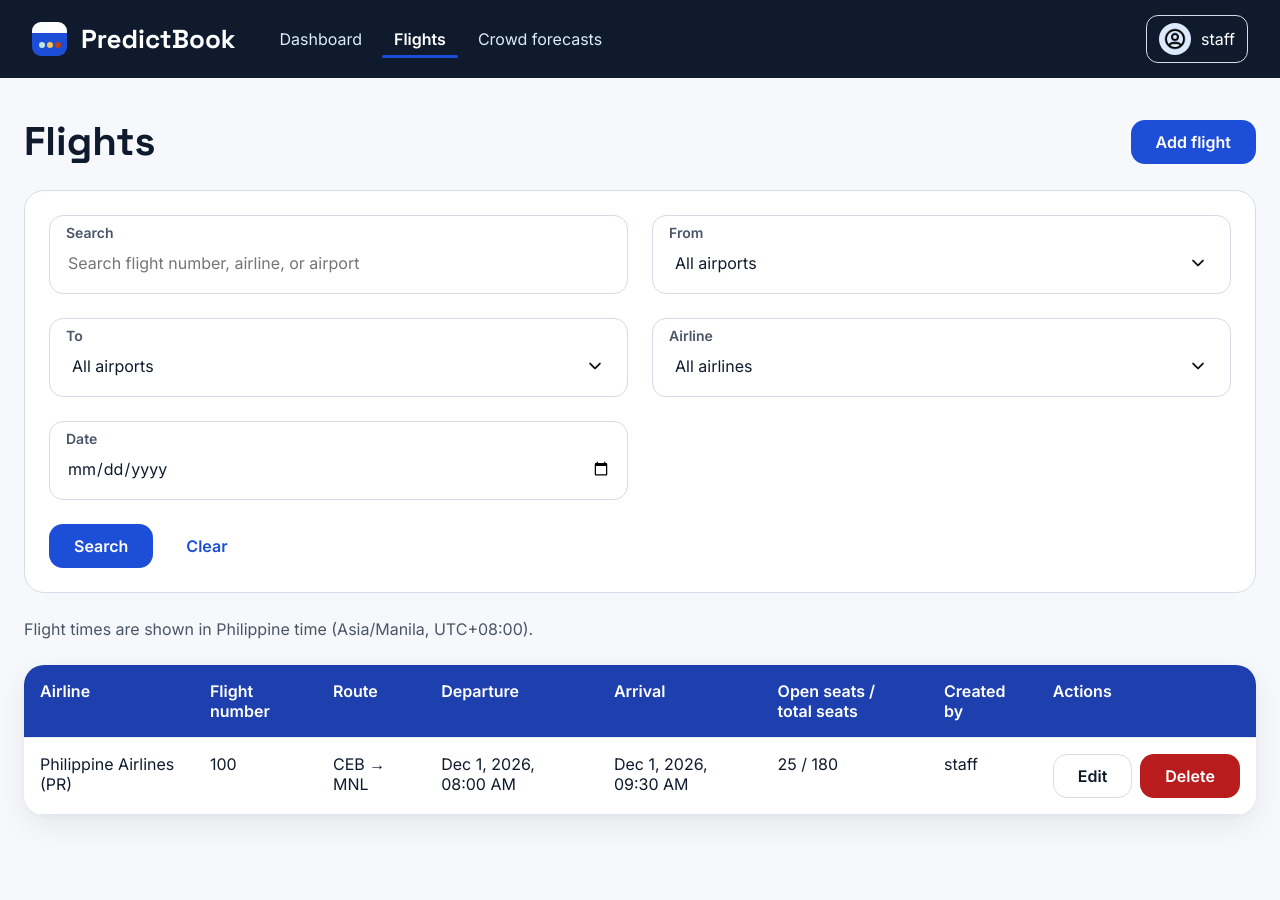
Test: deletes the confirmed flight, updates the table and announces success
The width and height of the screenshot is (1280, 900).
What coordinates should you click on to do the following:
click the button "Delete"
I would click on:
 (1190, 776)
Its box is [1140,754,1240,798].
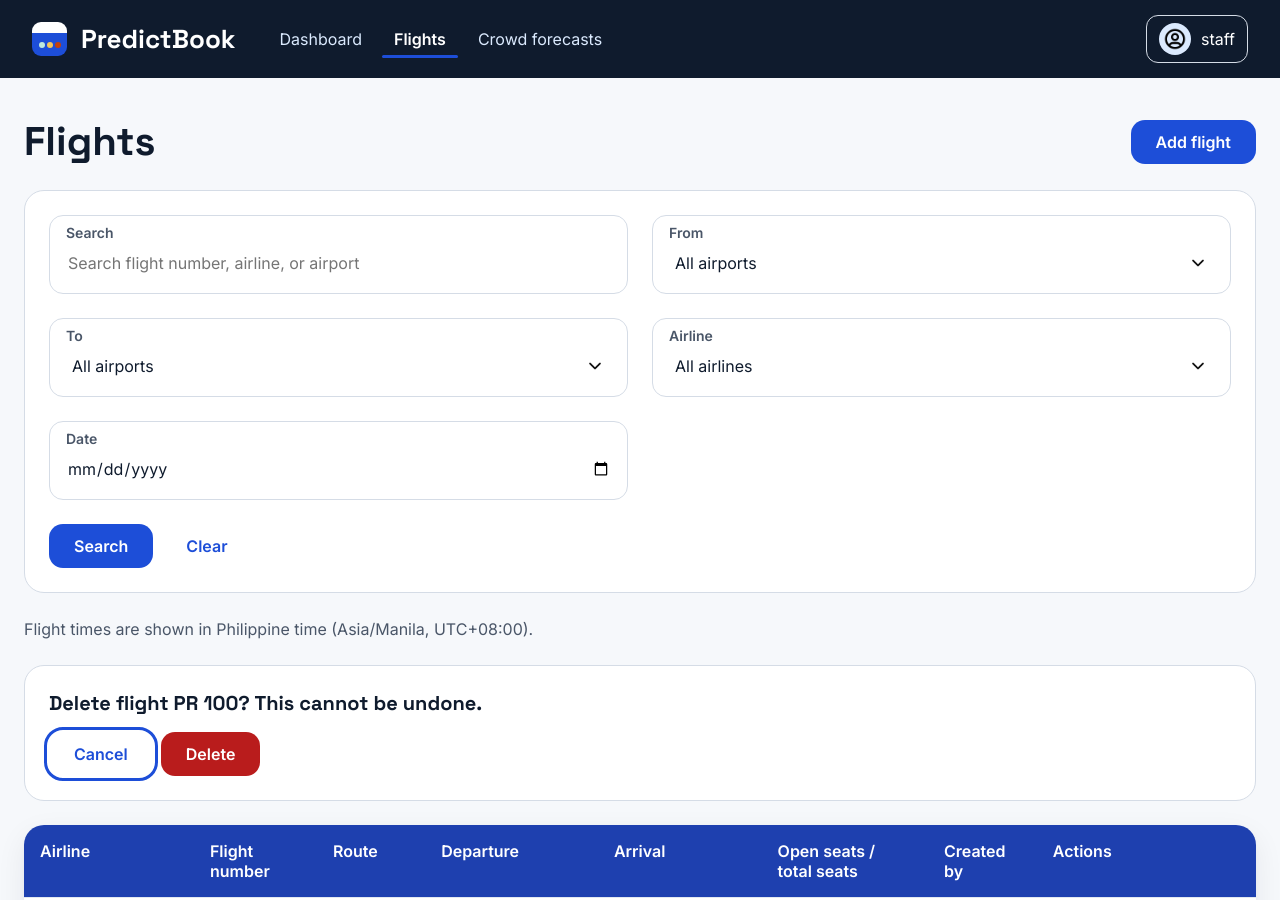
What coordinates should you click on to do the following:
click the button with class "record-danger"
I would click on:
 (210, 754)
Its box is [161,732,260,776].
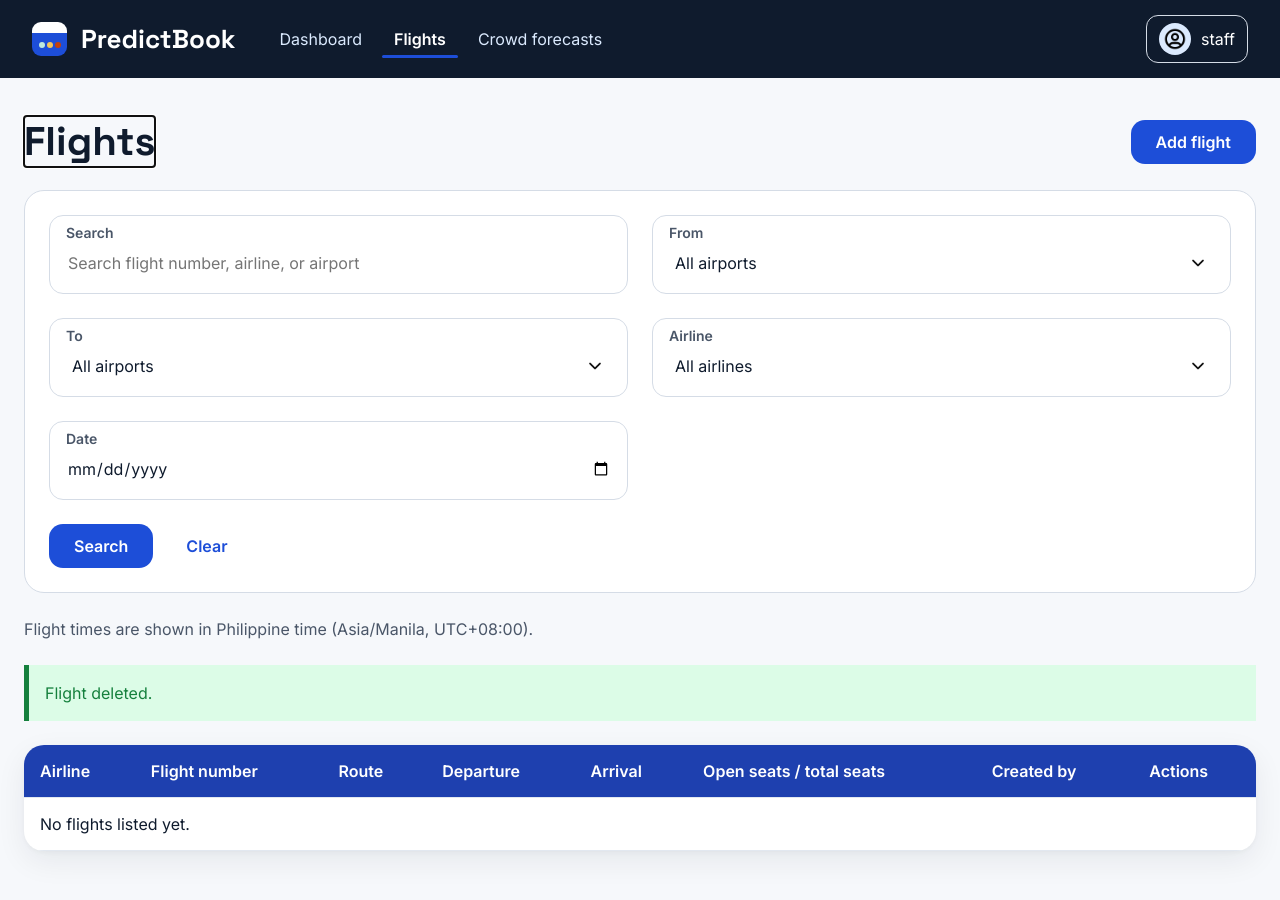
Result: the dialog is gone
Result: the message "Flight deleted." is shown at [24,665,1256,721]
Result: the text "No flights listed yet." is shown at [24,798,1256,850]
